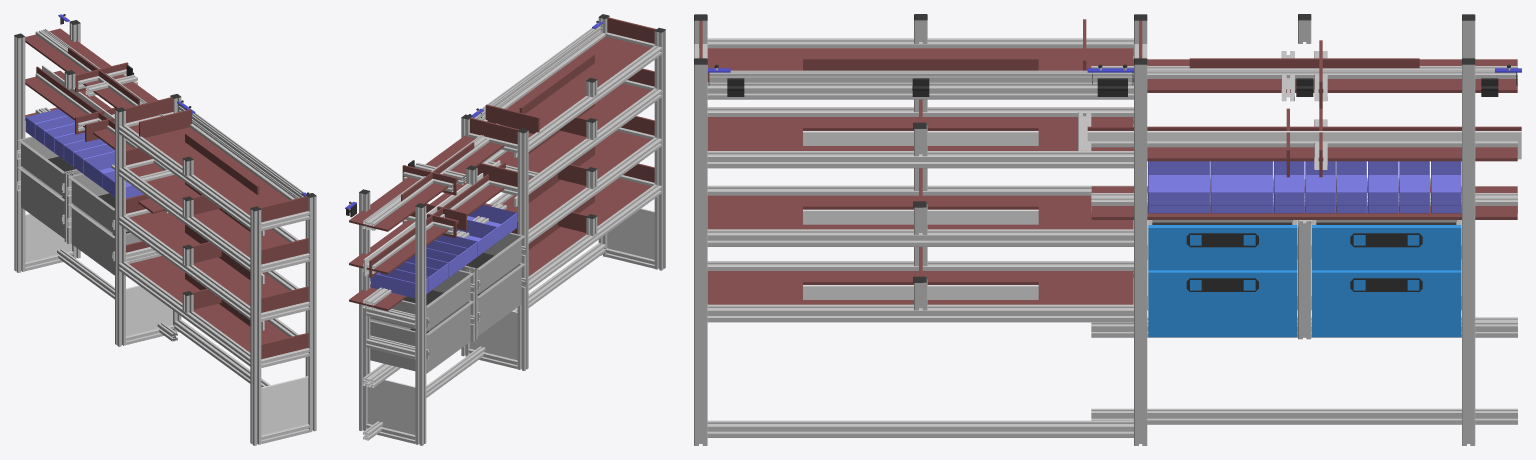
File: vd_test_trafic_9f570c6e.glb
The picture shows the model from 3 angles, left to right: view 1: azimuth 30°, elevation 25°; view 2: azimuth 150°, elevation 25°; view 3: azimuth 270°, elevation 25°; orthographic projection. The views are drawn at different scales.
Parts seen in each view (by area): view 1: PR10_1266x291.003, UNIT_left_data_0_comp3_2supliky.ocel.20kg.200.1014.349, PR10_1266x291.005, PR10_1266x291.004, UNIT_left_data_0_comp4_2supliky.ocel.20kg.130.1014.349, 40x40x1250_noha.002, PR10_1266x291.006, 40x40x1250_noha, 40x40x1250_noha_2.002, 40x40x1250_noha.001, CUB10_292x260.002, PR10_1266x291 (+48 smaller); view 2: UNIT_left_data_0_comp3_2supliky.ocel.20kg.200.1014.349, PR10_1266x291.003, UNIT_left_data_0_comp4_2supliky.ocel.20kg.130.1014.349, PR10_1266x291.005, 40x40x1250_noha, PR10_1266x291.006, PR10_1266x291, PR10_1266x291.004, 40x40x1250_noha.002, 40x40x1250_noha.001, CUB10_292x260, PR10_1266x291.002 (+51 smaller); view 3: drawer.003, drawer.004, PR10_1266x291.004, PR10_1266x291.005, PR10_1266x291.006, SL40x40x1267_Zx2_2.005, SL40x40x1267_Zx2.006, SL40x40x1267_Zx2_2.007, SL40x40x1267_Zx2_2.006, SL40x40x1267_Zx2.001, 20x40x1258.001, PR10_1266x291.003 (+41 smaller).
Boxes of the visible parts, <box> form: PR10_1266x291.003: <box>129,124,289,215</box>; UNIT_left_data_0_comp3_2supliky.ocel.20kg.200.1014.349: <box>17,166,141,275</box>; PR10_1266x291.005: <box>129,211,289,305</box>; PR10_1266x291.004: <box>129,256,289,352</box>; UNIT_left_data_0_comp4_2supliky.ocel.20kg.130.1014.349: <box>17,136,128,234</box>; 40x40x1250_noha.002: <box>250,209,261,445</box>; PR10_1266x291.006: <box>129,166,289,257</box>; 40x40x1250_noha: <box>14,36,25,272</box>; 40x40x1250_noha_2.002: <box>305,195,316,432</box>; 40x40x1250_noha.001: <box>115,109,125,346</box>; CUB10_292x260.002: <box>261,376,308,435</box>; PR10_1266x291: <box>25,28,157,108</box>; UNIT_left_data_0_comp3_2supliky.ocel.20kg.200.1014.349: <box>370,263,525,373</box>; PR10_1266x291.003: <box>506,36,651,137</box>; UNIT_left_data_0_comp4_2supliky.ocel.20kg.130.1014.349: <box>370,232,525,331</box>; PR10_1266x291.005: <box>502,131,651,229</box>; 40x40x1250_noha: <box>415,205,426,445</box>; PR10_1266x291.006: <box>493,83,651,180</box>; PR10_1266x291: <box>349,135,504,231</box>; PR10_1266x291.004: <box>528,178,651,276</box>; 40x40x1250_noha.002: <box>654,30,665,270</box>; 40x40x1250_noha.001: <box>517,130,528,370</box>; CUB10_292x260: <box>367,379,415,434</box>; PR10_1266x291.002: <box>349,178,504,274</box>; drawer.003: <box>1148,270,1461,337</box>; drawer.004: <box>1148,225,1461,270</box>; PR10_1266x291.004: <box>707,271,1133,304</box>; PR10_1266x291.005: <box>707,195,1133,229</box>; PR10_1266x291.006: <box>707,117,1133,150</box>; SL40x40x1267_Zx2_2.005: <box>707,304,1133,322</box>; SL40x40x1267_Zx2.006: <box>707,420,1133,437</box>; SL40x40x1267_Zx2_2.007: <box>707,151,1133,168</box>; SL40x40x1267_Zx2_2.006: <box>707,229,1133,246</box>; SL40x40x1267_Zx2.001: <box>1091,408,1517,424</box>; 20x40x1258.001: <box>709,70,1132,85</box>; PR10_1266x291.003: <box>707,48,1133,82</box>.
Size of the model in its own units: 0.377 by 1.25 by 2.46.
